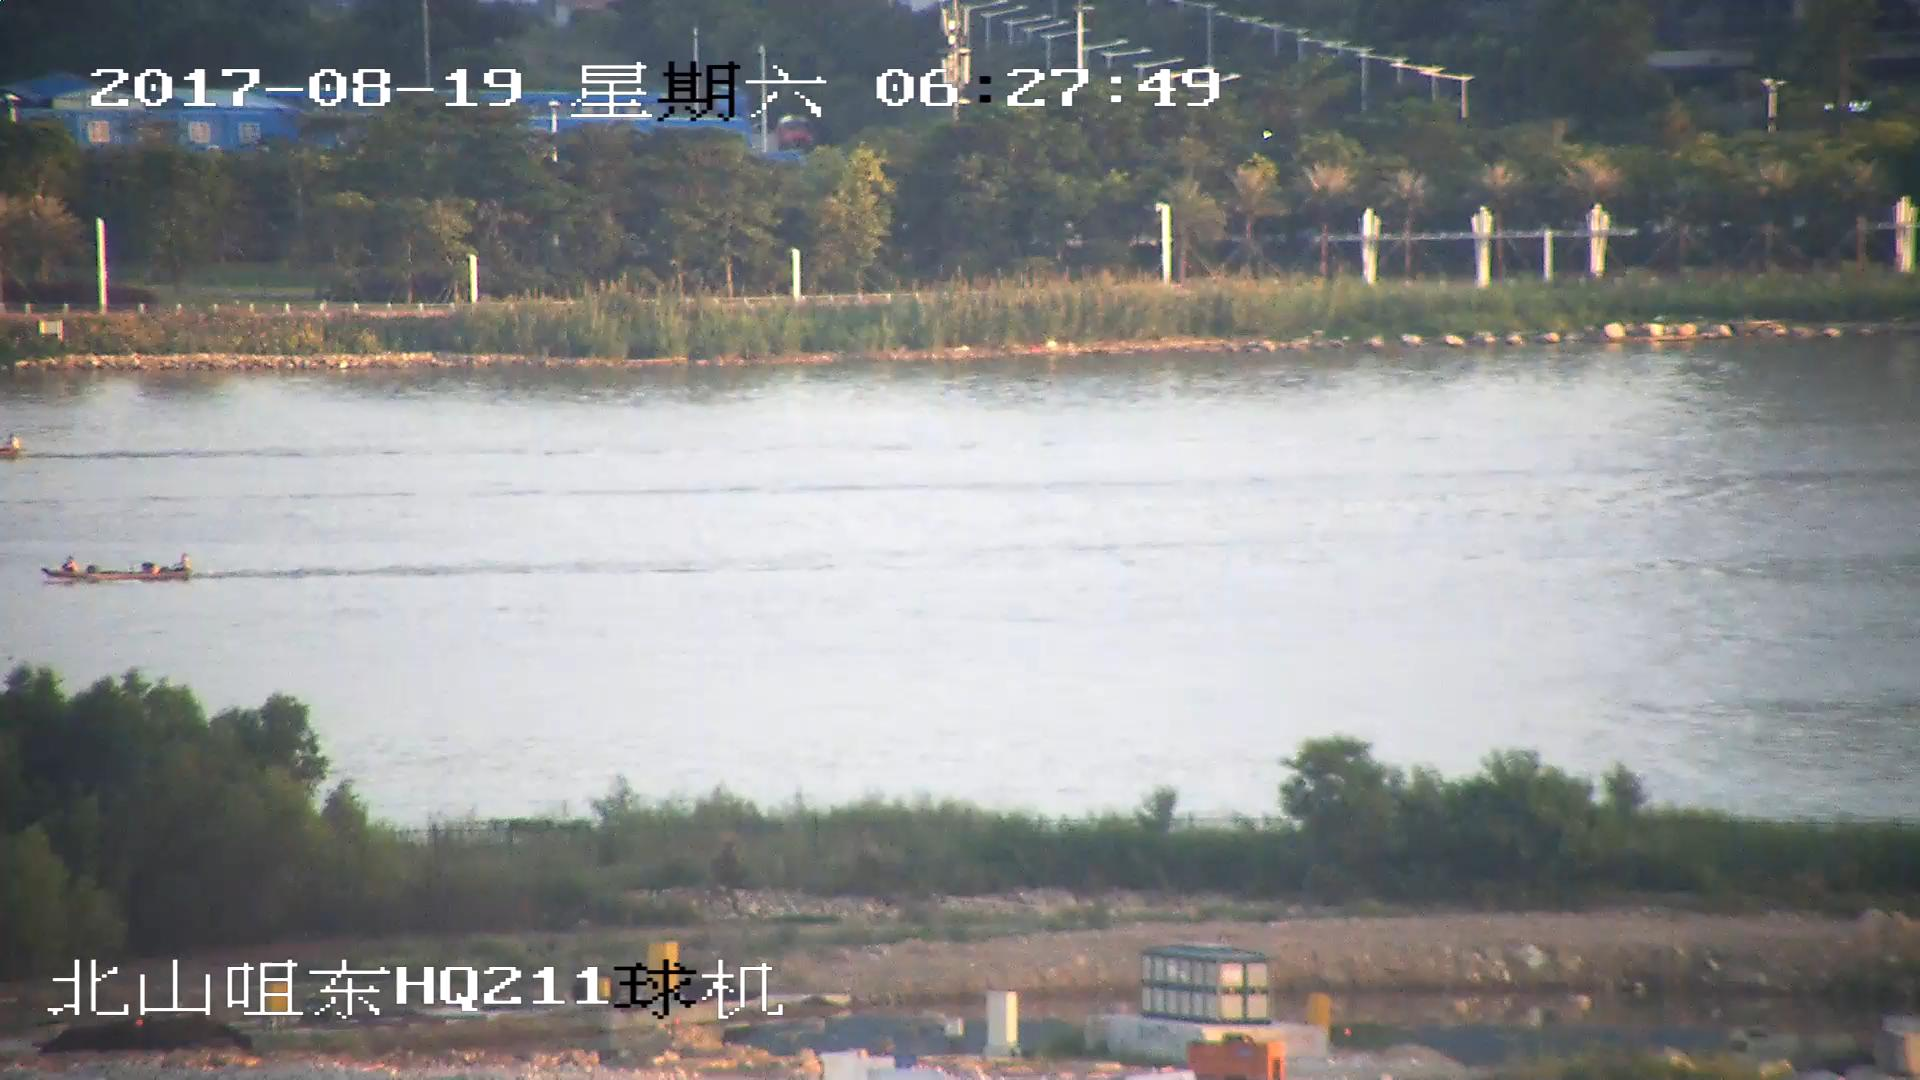fishing boat: (46, 551, 196, 585)
